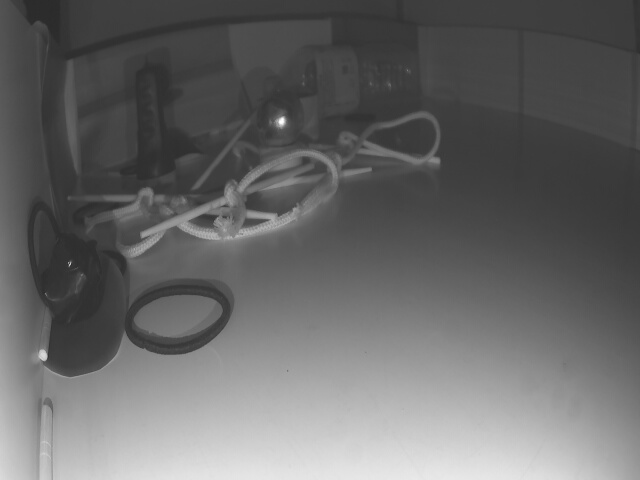Live: (256, 92, 296, 137)
